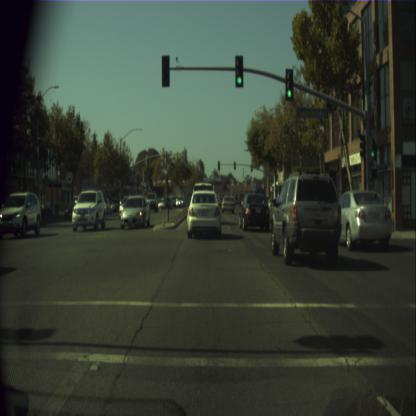Green: (235, 54, 243, 88), (286, 68, 294, 100), (371, 138, 376, 158)
off: (161, 54, 170, 86)
